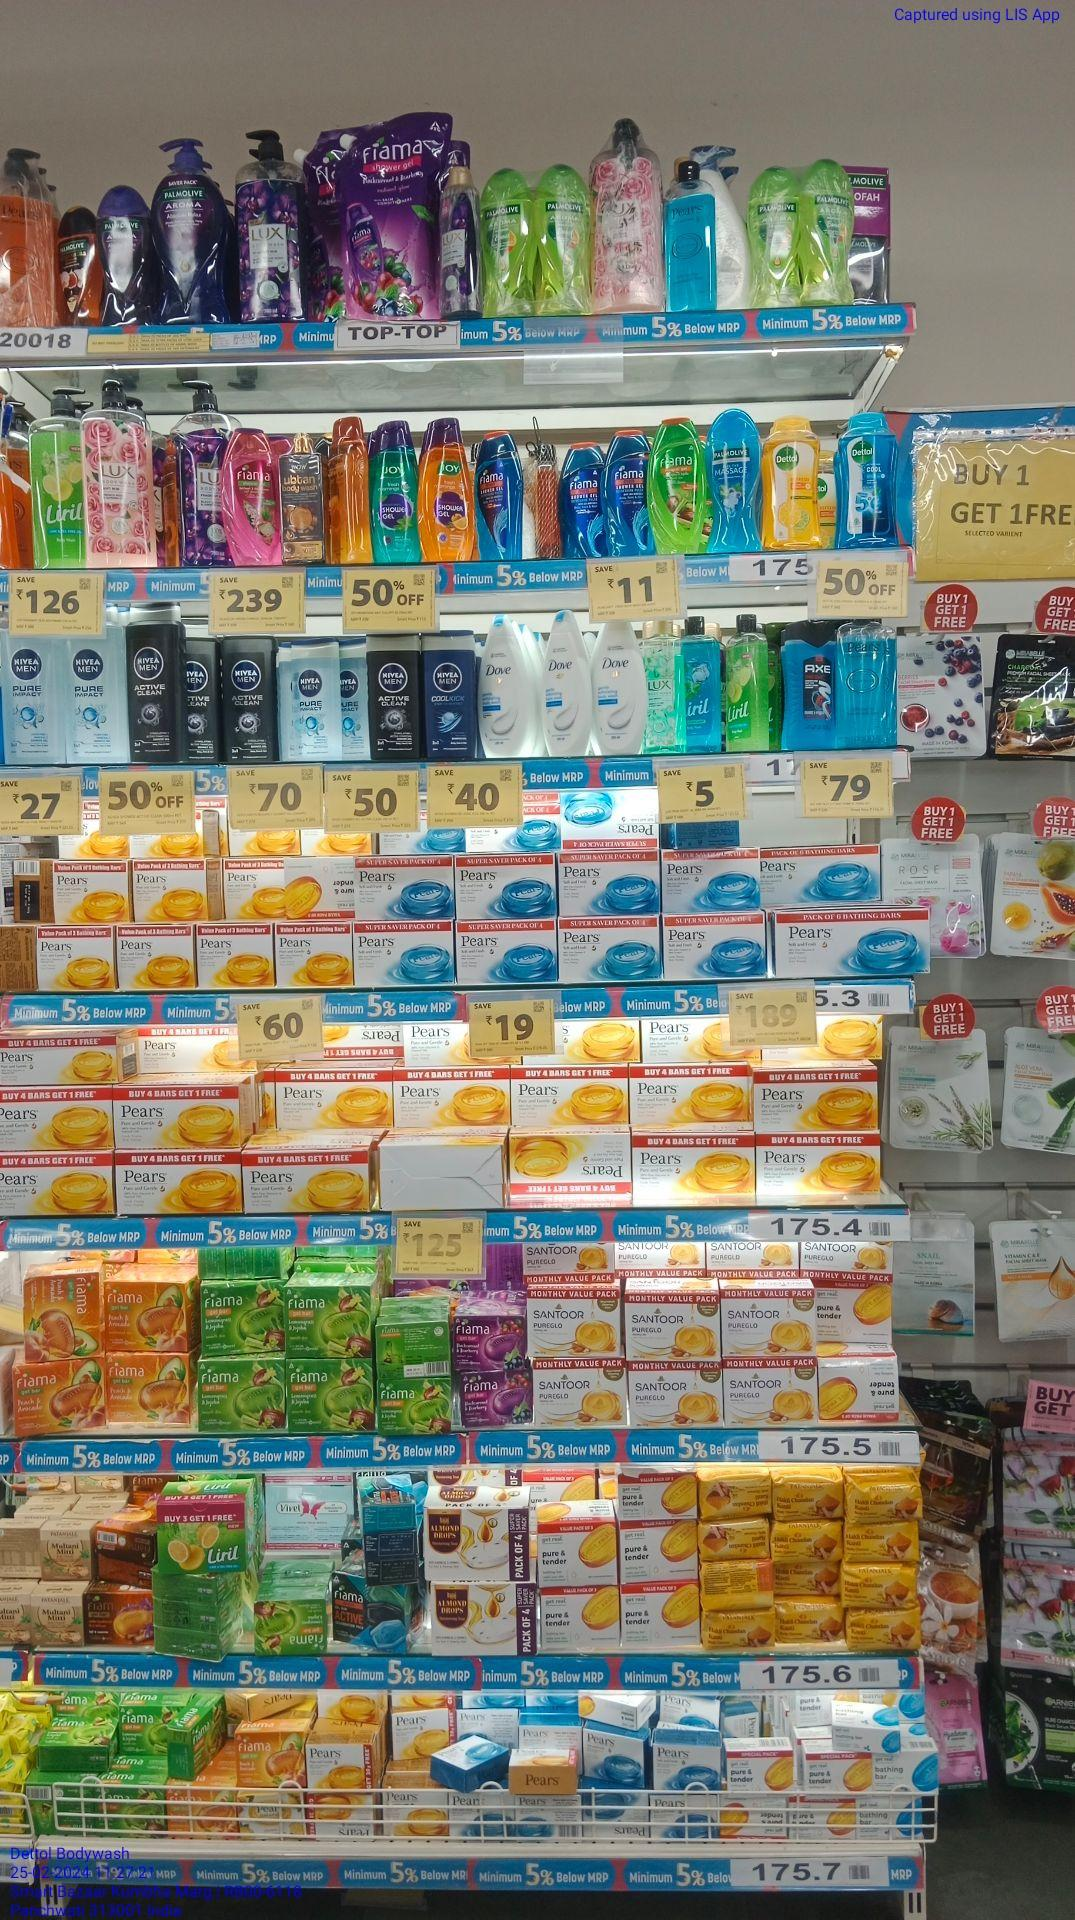Dettol_Bodywash_Cool: (839, 411, 900, 549)
Dettol_Bodywash_Refresh: (762, 415, 824, 550)
Dove_Gentle_Exfoliating_Body_Wash_250ML: (538, 609, 592, 754), (475, 616, 529, 757), (594, 622, 641, 754)
Fiama_Shower_Gel_Lemongrass_and_Jojoba_250ML: (648, 418, 706, 554)
Fiama_Shower_Gel_Patchouli_and_Macadamia_250ML: (223, 427, 284, 566)
Joy_Shower_Gel_Mandarin_and_Lemongrass_250ML: (423, 418, 474, 562)
Joy_Shower_Gel_Mint_and_Eucalyptus_250ML: (368, 421, 419, 563)
Liril_Cooling_Mint_Body_Wash_250ML: (689, 615, 723, 753)
Liril_Lime_and_Tea_Tree_Oil_Body_Wash_250ML: (728, 615, 773, 750)
Lux_Body_Wash_Skin_Detox_Freesia_Scent_and_Alove_Vera_245ML: (644, 620, 686, 754)
Palmolive_Aroma_Moments_Feel_The_Massage_Shower_Gel_250ML: (710, 409, 762, 554)
Palmolive_Aroma_Morning_Tonic_Shower_Gel_250ML: (538, 164, 591, 313), (751, 164, 802, 306), (807, 158, 856, 307), (481, 167, 530, 315)
Palmolive_Luminous_Oils_With_White_Orchid_Shower_Gel_250ML: (53, 204, 98, 320)
